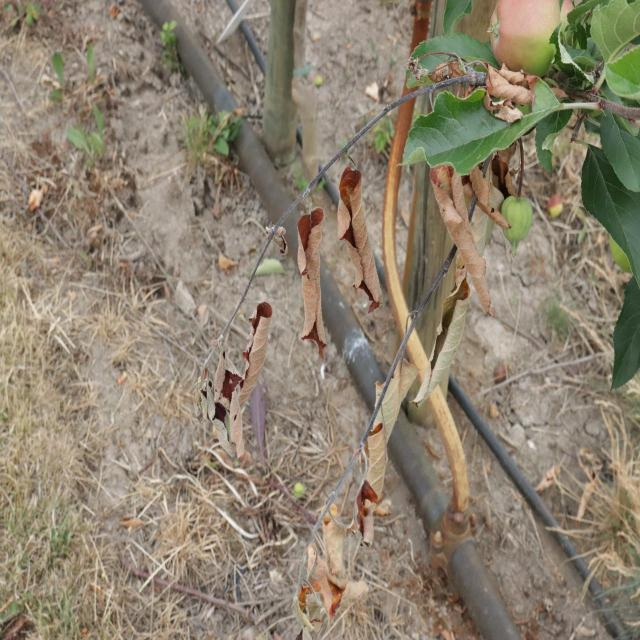-FireBlight-: (195, 60, 540, 466), (293, 141, 517, 631)
